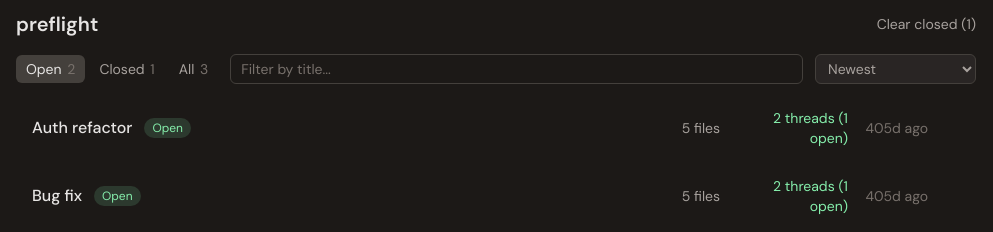
Test: ReviewList filtering and sorting › combined filters › search and status filter work together
The width and height of the screenshot is (993, 232).
Type "auth" into the field with placeholder "Filter by title..." at (517, 69), box 230,54 -> 803,84
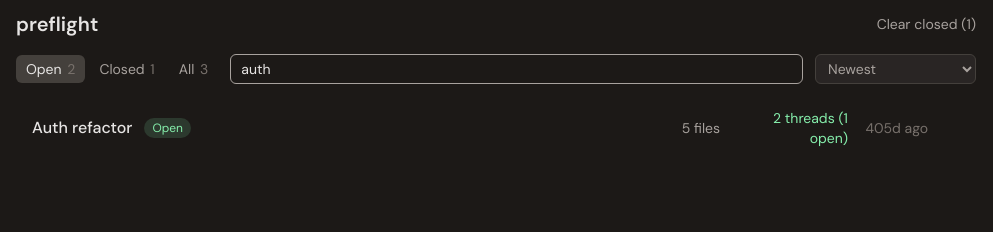
Expected: the text "Auth refactor" is shown, 32,116 -> 132,140
Now the button "Bug fix" is gone
